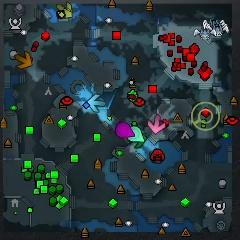Other: (192, 101, 220, 132)
p2: (128, 126, 145, 142)
p3: (116, 121, 134, 138)
x1: (147, 115, 165, 134)
x2: (57, 2, 73, 18)
x3: (88, 94, 105, 112)
x4: (135, 135, 147, 148)
x5: (14, 52, 33, 69)
